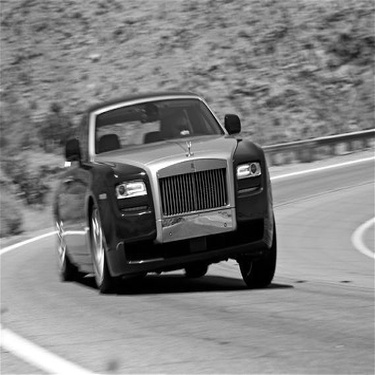car: (43, 85, 278, 293)
